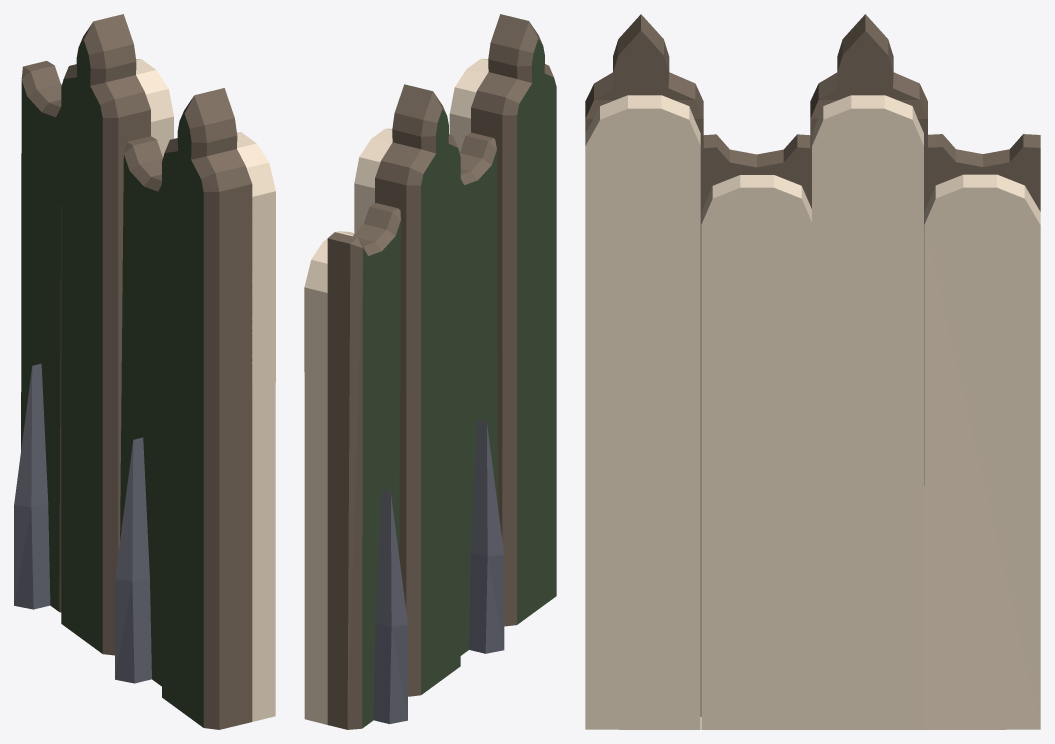
The model's file is wall_1_part_01.fbx.
3 views of the same model, side by side, from view 1: azimuth 30°, elevation 25°; view 2: azimuth 150°, elevation 25°; view 3: azimuth 270°, elevation 25° (orthographic). The views are drawn at different scales.
Parts seen in each view (by area): view 1: WALL_1_part_01; view 2: WALL_1_part_01; view 3: WALL_1_part_01.
Boxes of the visible parts, x1,y1,x2,y2 form: WALL_1_part_01: (14, 14, 275, 729); WALL_1_part_01: (304, 14, 556, 729); WALL_1_part_01: (585, 14, 1040, 729).
Size of the model in its own units: 69.79 by 495 by 298.
